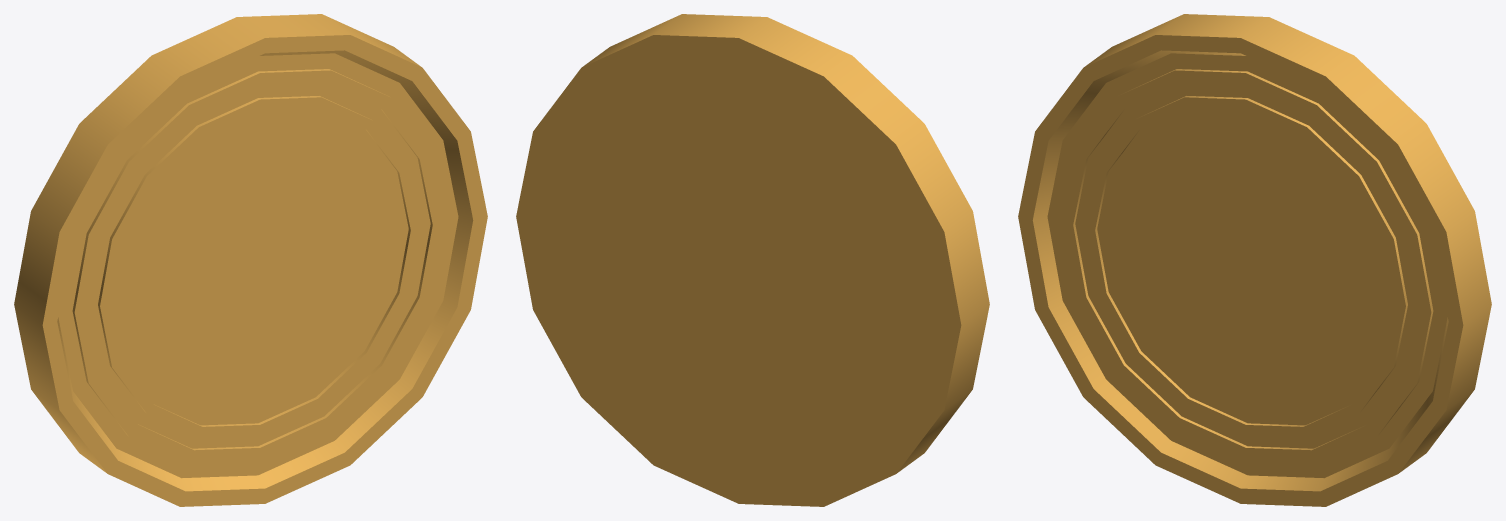
File: Coin.fbx
3 renders of one model, left to right at view 1: azimuth 30°, elevation 25°; view 2: azimuth 150°, elevation 25°; view 3: azimuth 330°, elevation 25°, orthographic.
Parts seen in each view (by area): view 1: Coin; view 2: Coin; view 3: Coin.
Part boxes in pixels (left/top/right/bottom): Coin: left=14, top=14, right=487, bottom=506; Coin: left=516, top=14, right=989, bottom=506; Coin: left=1018, top=14, right=1491, bottom=506.
Size of the model in its own units: 180 by 180 by 20.
